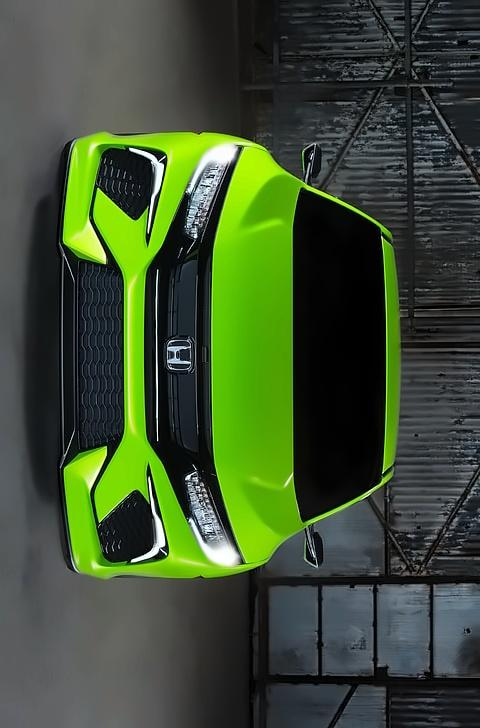Car hood: (206, 138, 305, 564)
Front bumper: (49, 118, 193, 584)
Headlight - -L-: (173, 464, 254, 577)
Headlight - -R-: (176, 129, 246, 256)
Side mirror - -L-: (295, 514, 336, 577)
Side mirror - -R-: (289, 134, 335, 191)
